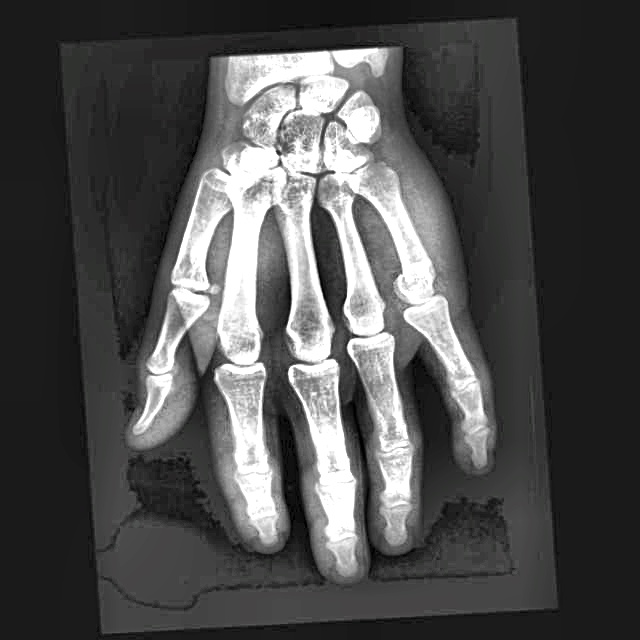Comminuted: (392, 250, 448, 307)
